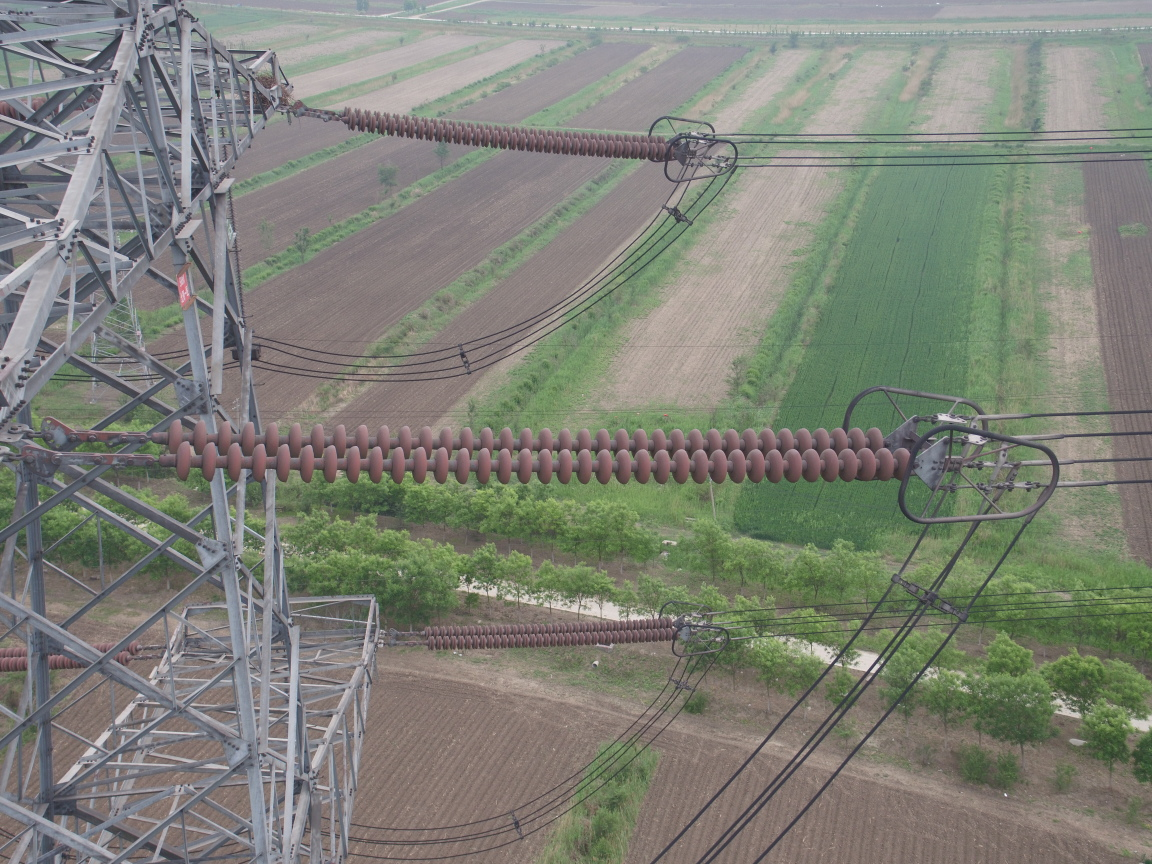insulator: (120, 416, 924, 489), (322, 100, 676, 165), (408, 614, 682, 651)
